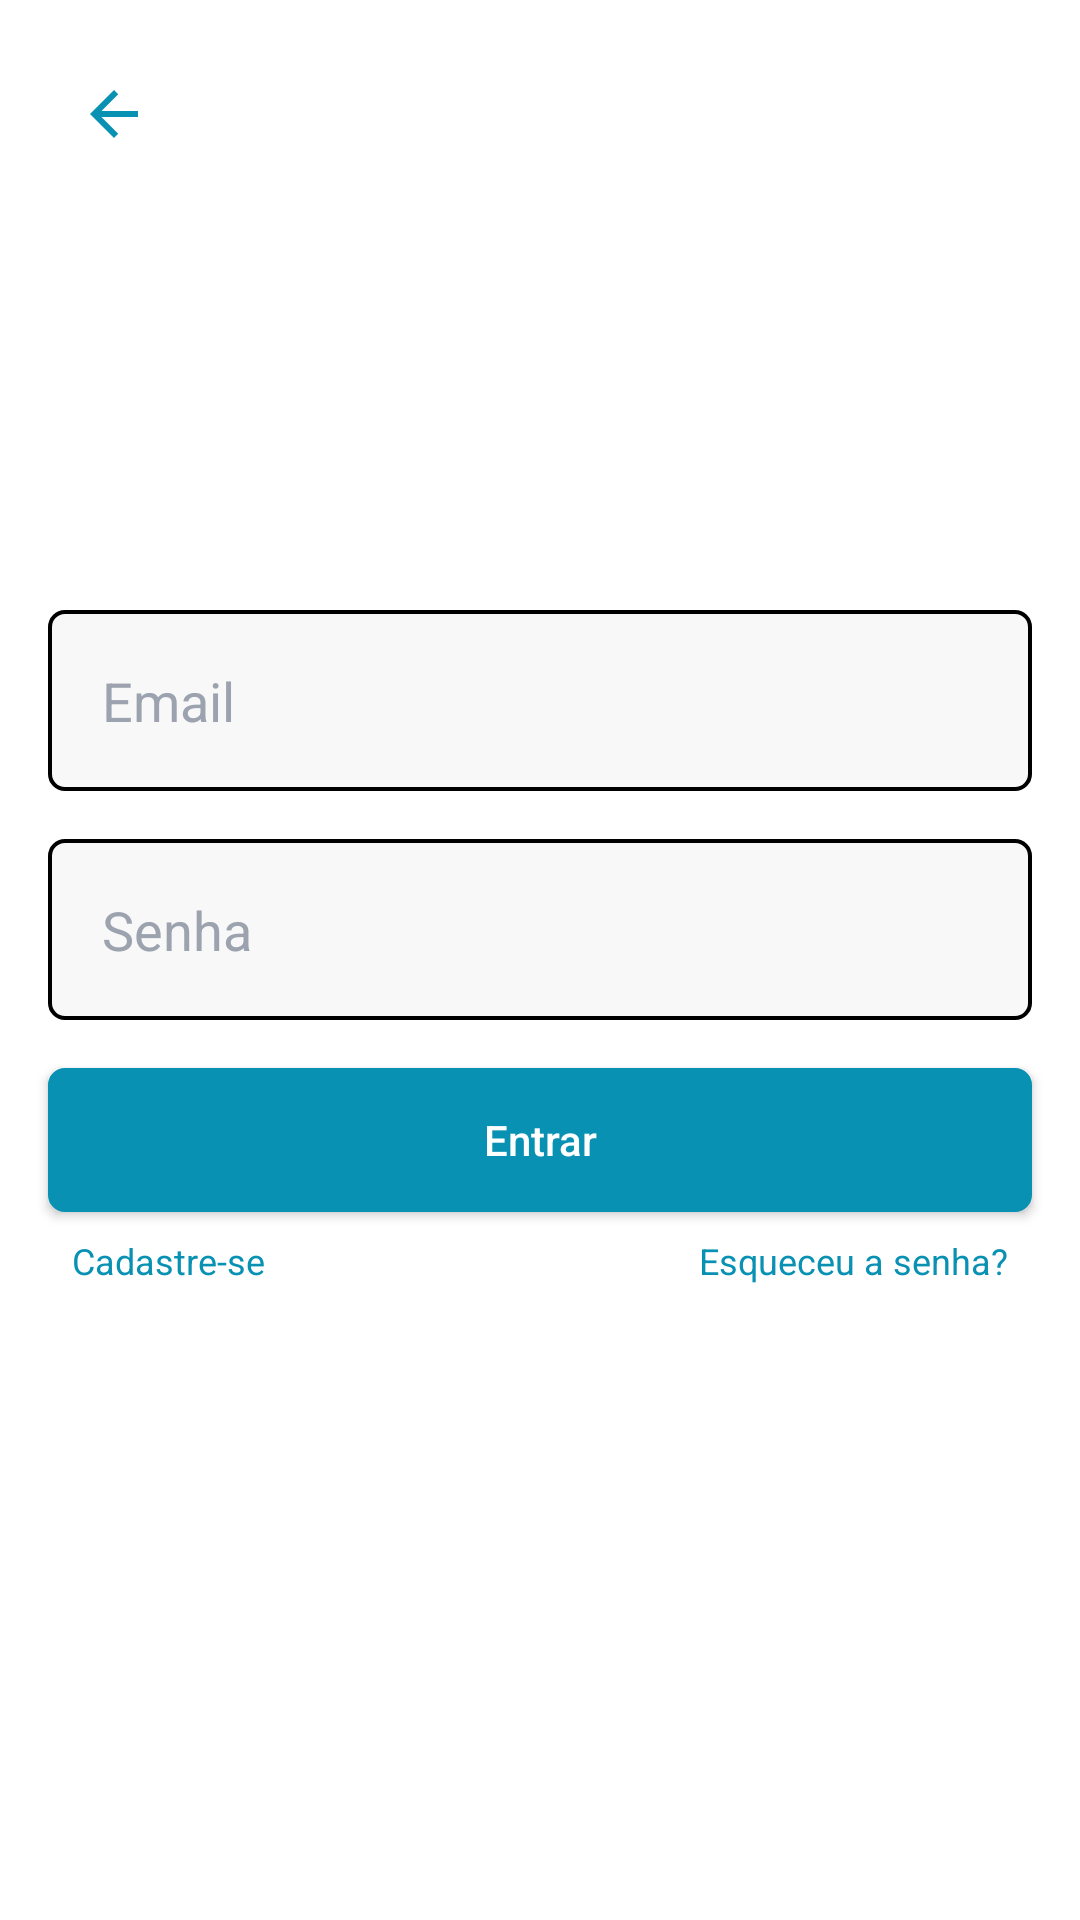

Screen size 1080px×1920px. Icon name, then its box in pixels as (x1, y1, x2, y2):
arrow back: (90, 90, 138, 138)
